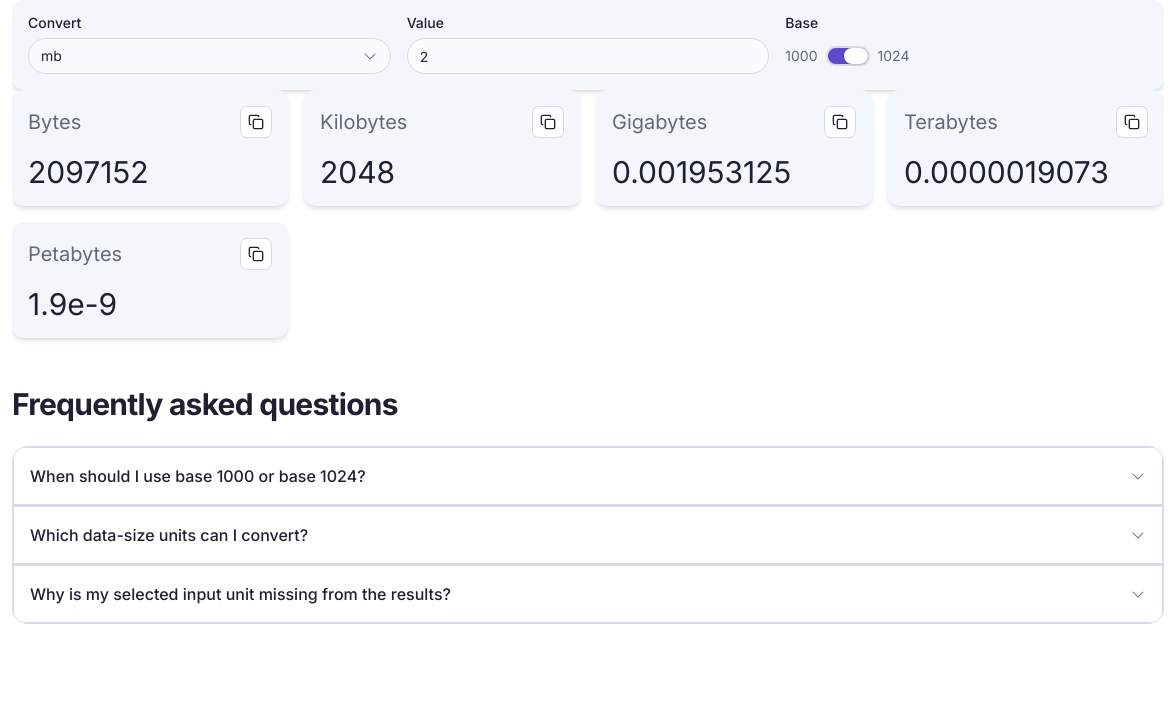
Test: <DataSizeConverter /> › updates all conversions when the input value changes
The image size is (1176, 720).
Replace the text in the number field with test id "data-size-converter-size-input" with "3" at [588, 56], box [407,38,769,74]
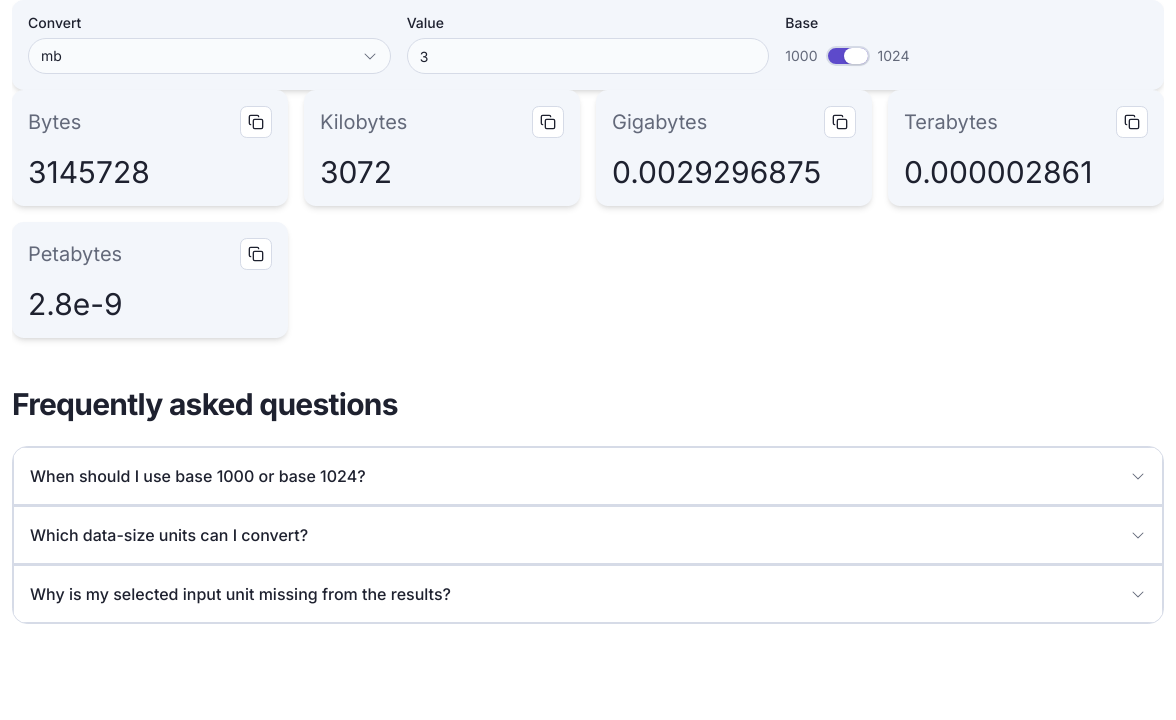
Expected: the text with test id "data-size-converter-output-kb" reads "3072", [320,154,392,190]
